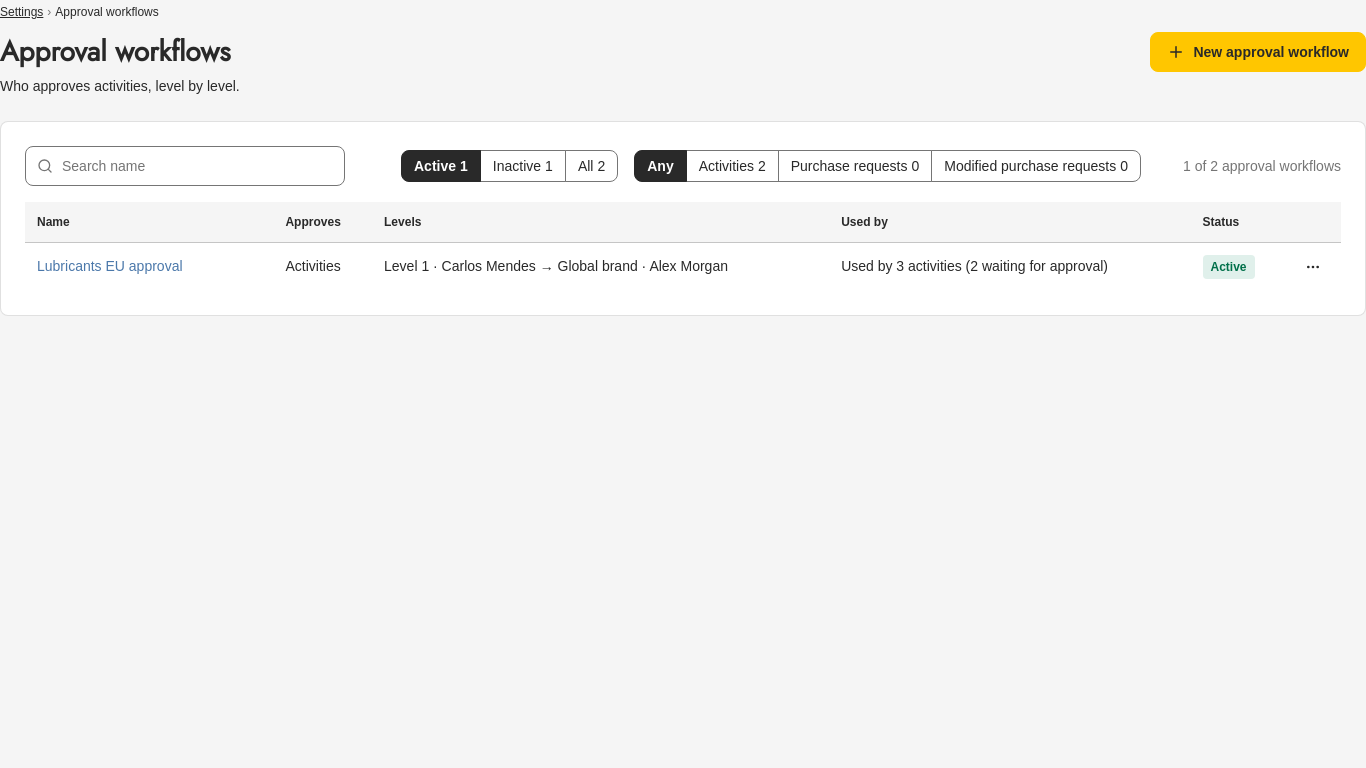
Test: ApprovalWorkflowsPage (feature 008, US4) › edits from the menu in the side panel
Expected: the row "Lubricants EU approval" is shown, [25, 242, 1341, 290]
What coordinates should you click on to do the following:
click the button named "Actions for Lubricants EU approval"
I would click on:
 (1313, 266)
Its box is [1297, 250, 1329, 282].
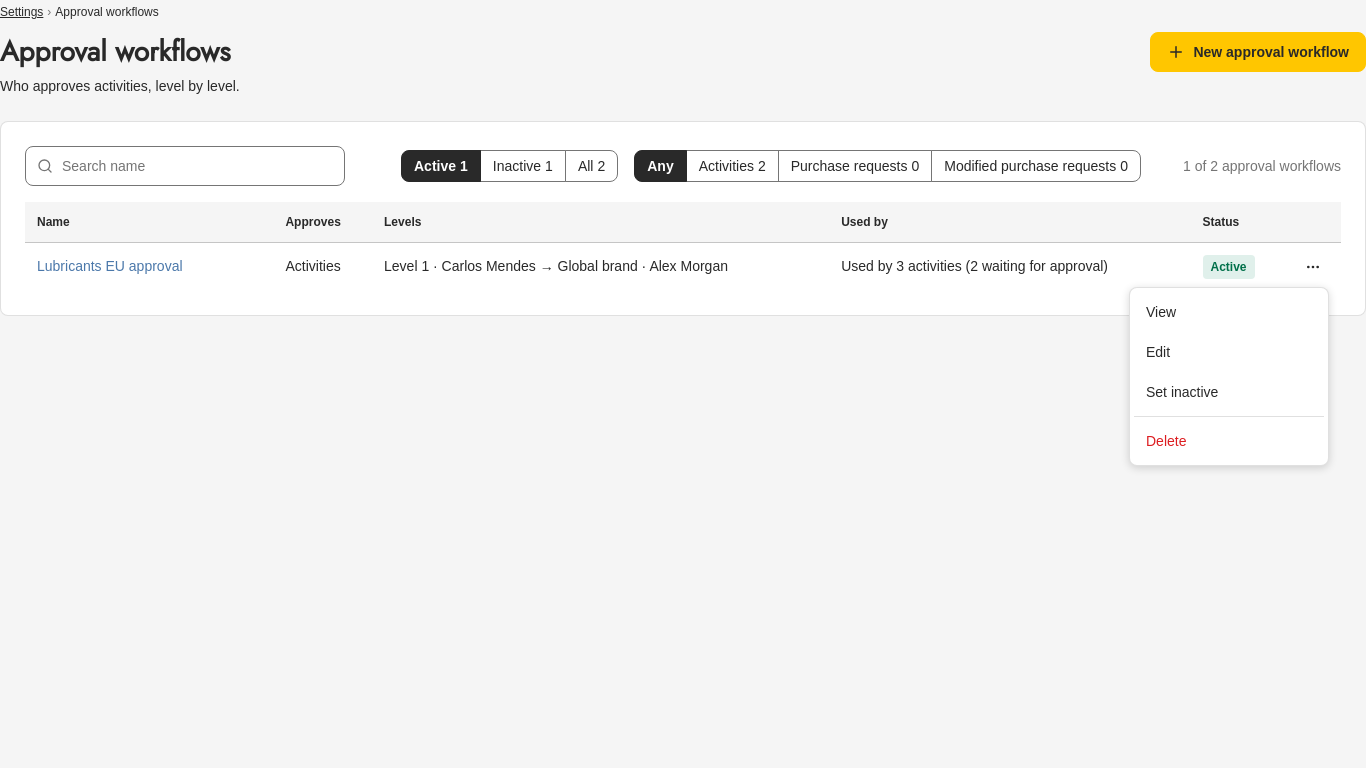
What coordinates should you click on to do the following:
click the menu item "Edit"
I would click on:
 (1158, 352)
Its box is [1146, 344, 1170, 360].
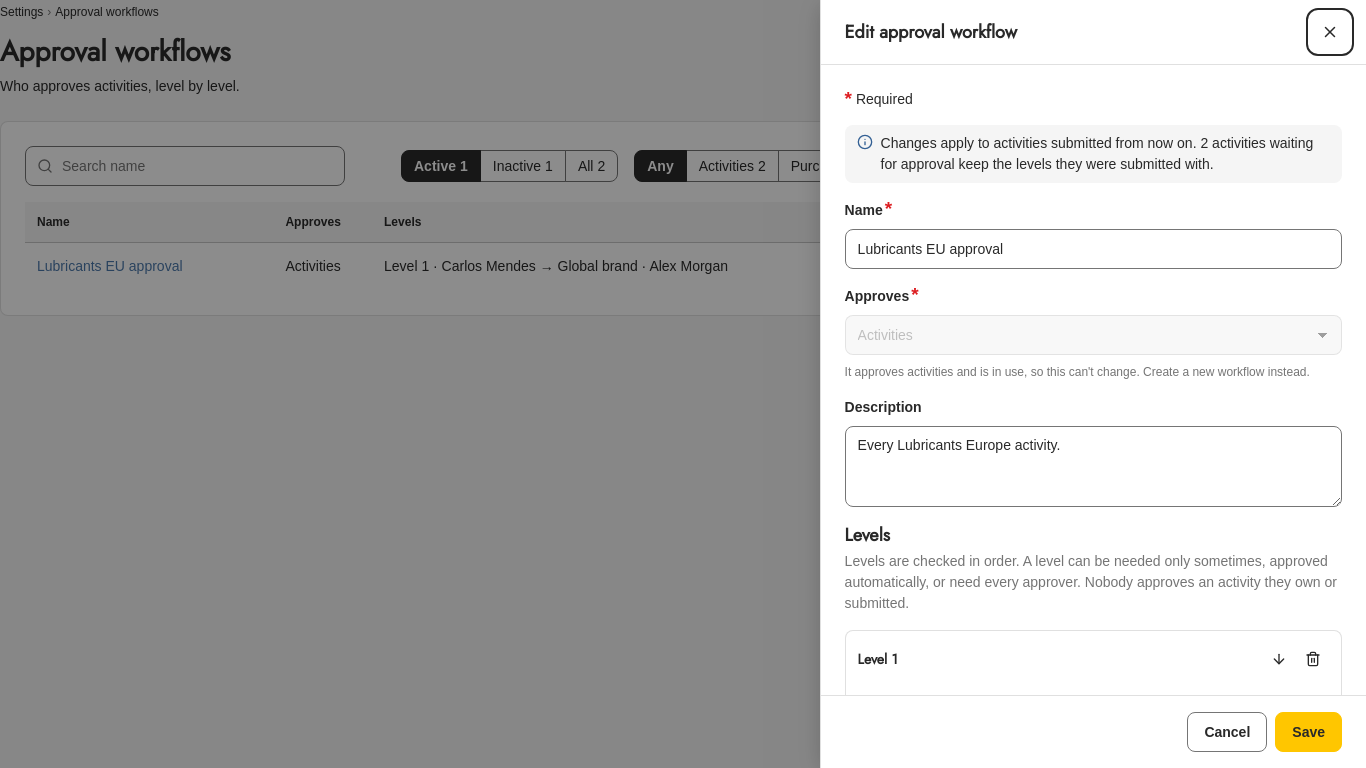
Result: the field labelled "Name" holds "Lubricants EU approval" at [845, 229, 1342, 269]
